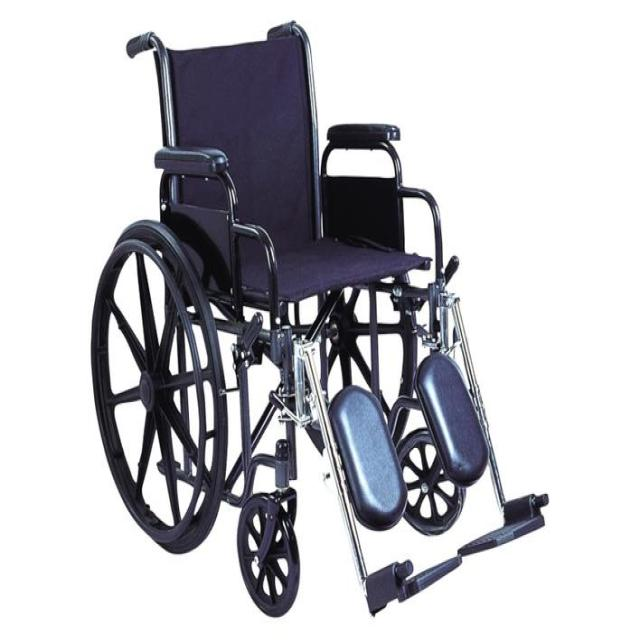wheelchairs: (78, 17, 552, 627)
